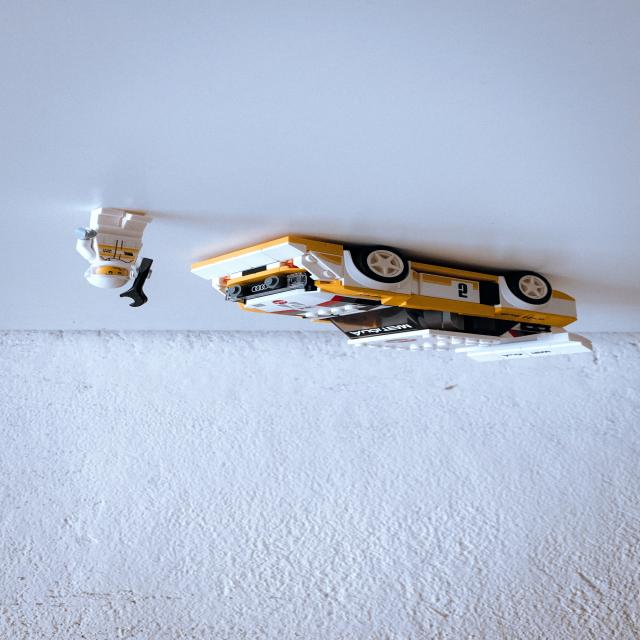Car: (189, 235, 592, 362)
